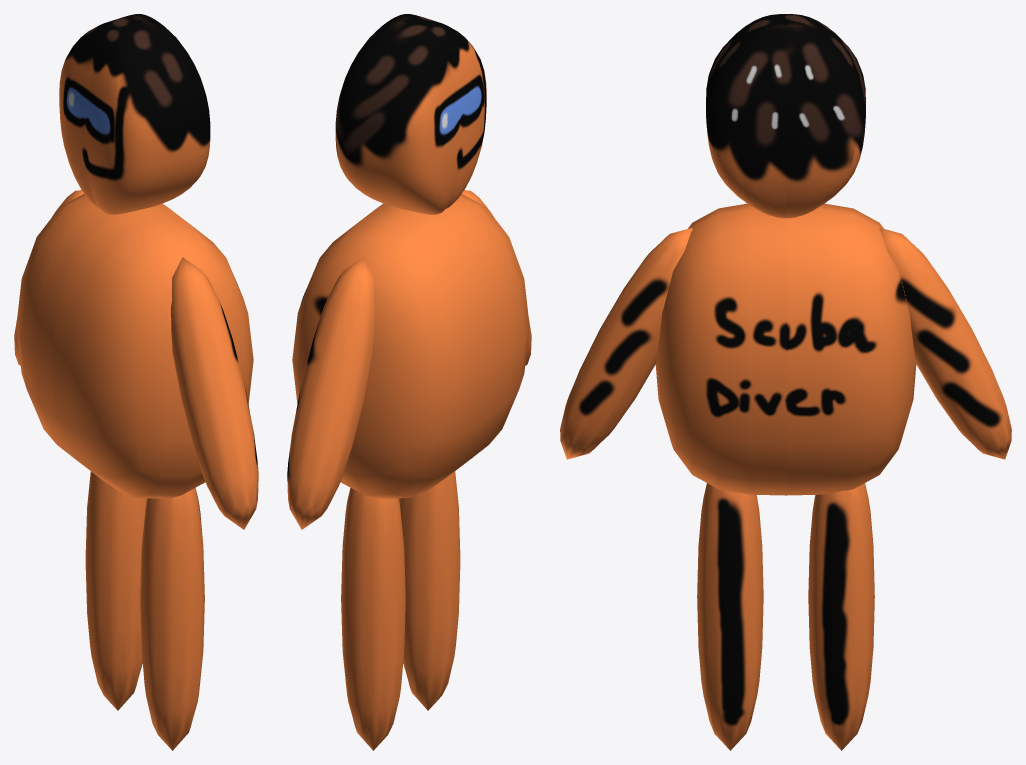
Rendered from diver.glb.
The picture shows the model from 3 angles, left to right: view 1: azimuth 30°, elevation 25°; view 2: azimuth 150°, elevation 25°; view 3: azimuth 270°, elevation 25°; orthographic projection.
Visible parts, largest first — view 1: Cube; view 2: Cube; view 3: Cube.
Part boxes in pixels (x1,y1,x2,y2): Cube: [14, 14, 258, 750]; Cube: [287, 14, 531, 750]; Cube: [560, 14, 1011, 750].
Size of the model in its own units: 1.57 by 6.36 by 3.6.
Materials: 1 (1 with a texture image).
